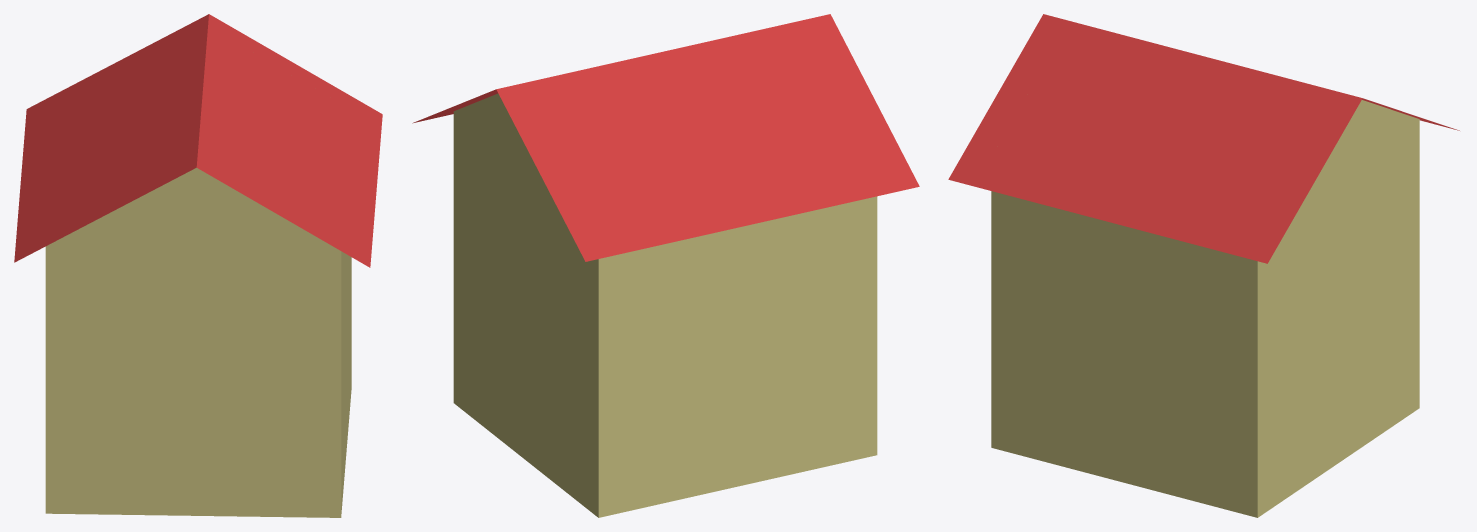
3 renders of one model, left to right at view 1: azimuth 30°, elevation 25°; view 2: azimuth 150°, elevation 25°; view 3: azimuth 270°, elevation 25°, orthographic. The views are drawn at different scales.
Visible parts, largest first — view 1: group_5, group_3, group_4; view 2: group_5, group_3; view 3: group_5, group_3, group_4.
Boxes of the visible parts, x1,y1,x2,y2 form: group_5: (45,167,351,517); group_3: (14,14,351,262); group_4: (22,14,382,267); group_5: (453,93,877,517); group_3: (412,14,919,261); group_5: (991,100,1419,517); group_3: (967,21,1362,263); group_4: (948,14,1459,263).
Bounding box in the file's own units: 16.37 × 16.45 × 13.18.
